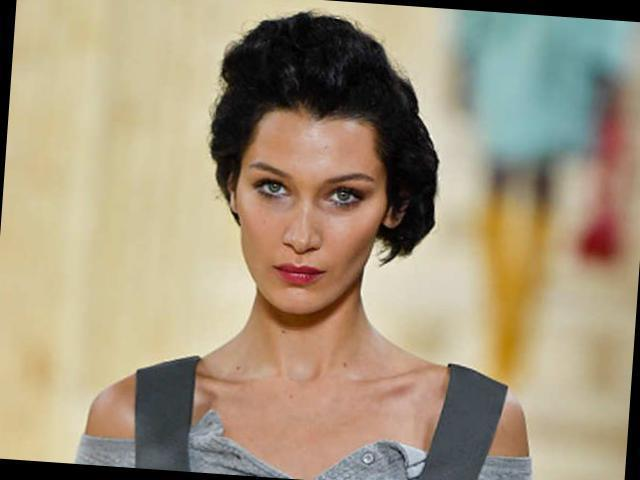Sober: (241, 119, 371, 305)
